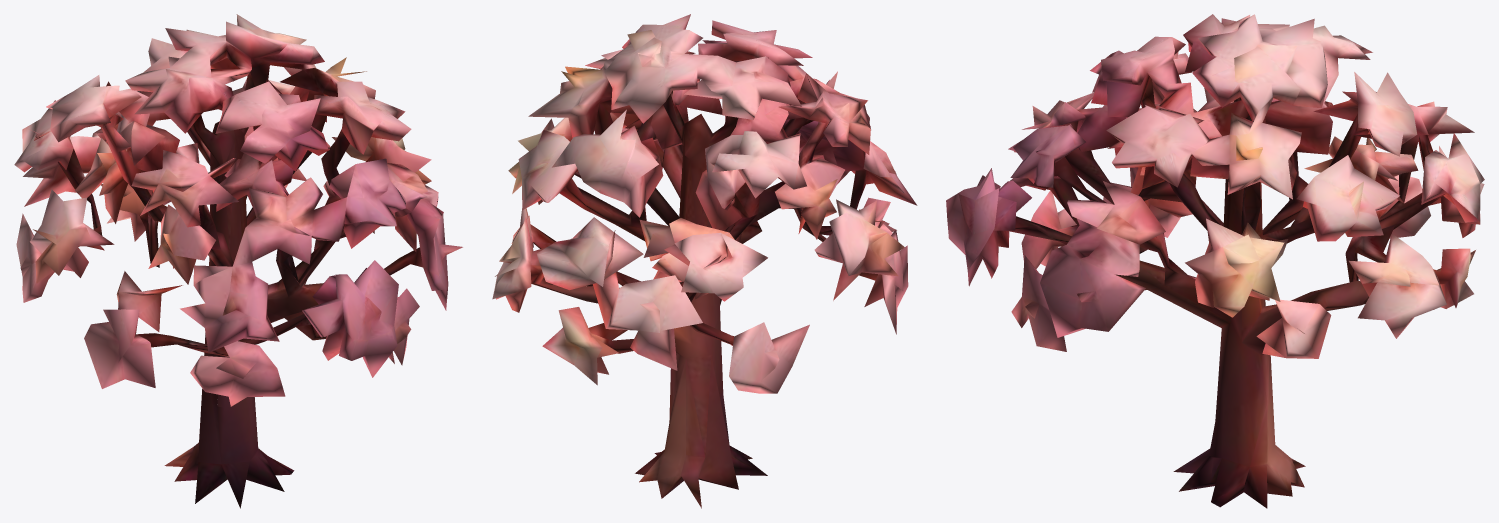
File: ipe.glb
3 renders of one model, left to right at view 1: azimuth 30°, elevation 25°; view 2: azimuth 150°, elevation 25°; view 3: azimuth 270°, elevation 25°, orthographic. The views are drawn at different scales.
Visible parts, largest first — view 1: tripo_node_e1c03de6-1fd3-44de-ab9e-3b0a1151f20a; view 2: tripo_node_e1c03de6-1fd3-44de-ab9e-3b0a1151f20a; view 3: tripo_node_e1c03de6-1fd3-44de-ab9e-3b0a1151f20a.
Boxes of the visible parts, x1,y1,x2,y2 form: tripo_node_e1c03de6-1fd3-44de-ab9e-3b0a1151f20a: (14,14,462,508); tripo_node_e1c03de6-1fd3-44de-ab9e-3b0a1151f20a: (492,14,917,508); tripo_node_e1c03de6-1fd3-44de-ab9e-3b0a1151f20a: (946,14,1484,508).
Size of the model in its own units: 0.8611 by 0.9655 by 1.
Materials: 1 (1 with a texture image).
